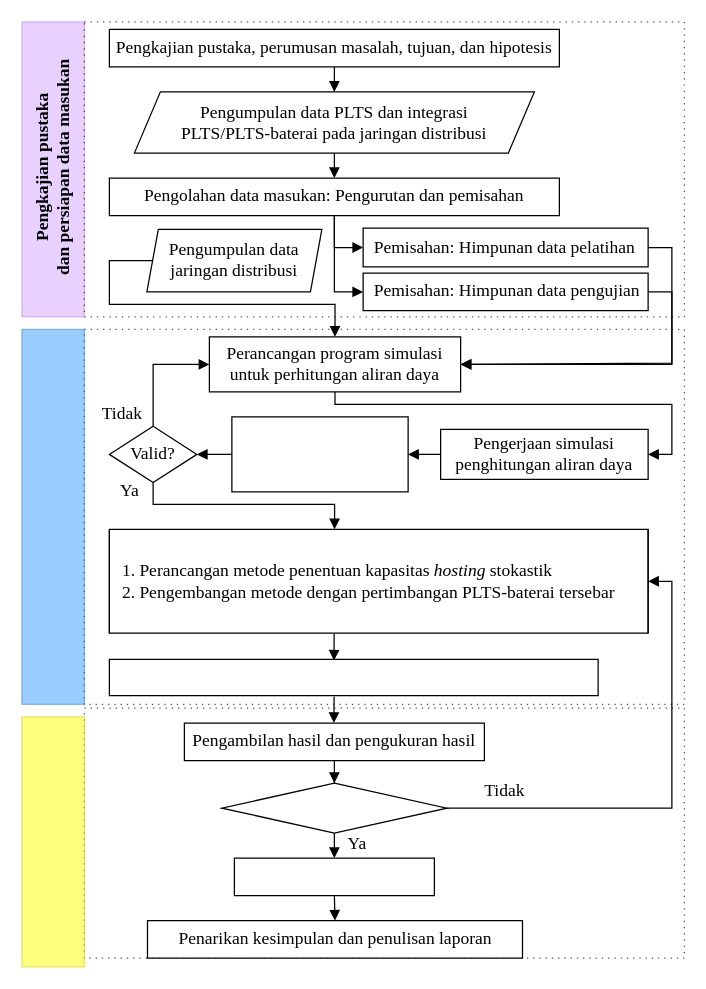
Some shapes in this 706 by 989 pixel diagram are drawn without their labels. The centre of each missing label's shape, as x and y in pixels:
"Formulasi permasalahan, perancangan metode dan pengerjaan simulasi" belongs at (x=52, y=516).
"Pengambilan data hasil dan validasi dengan data acuan" belongs at (x=319, y=454).
"Penganalisisan hasil" belongs at (x=333, y=876).
"Penganalisisan hasil dan penarikan kesimpulan" belongs at (x=52, y=841).
"Pengerjaan simulasi penentuan kapasitas hosting dan studi kasus" belongs at (x=353, y=677).
"Tujuan tercapai?" belongs at (x=334, y=807).
